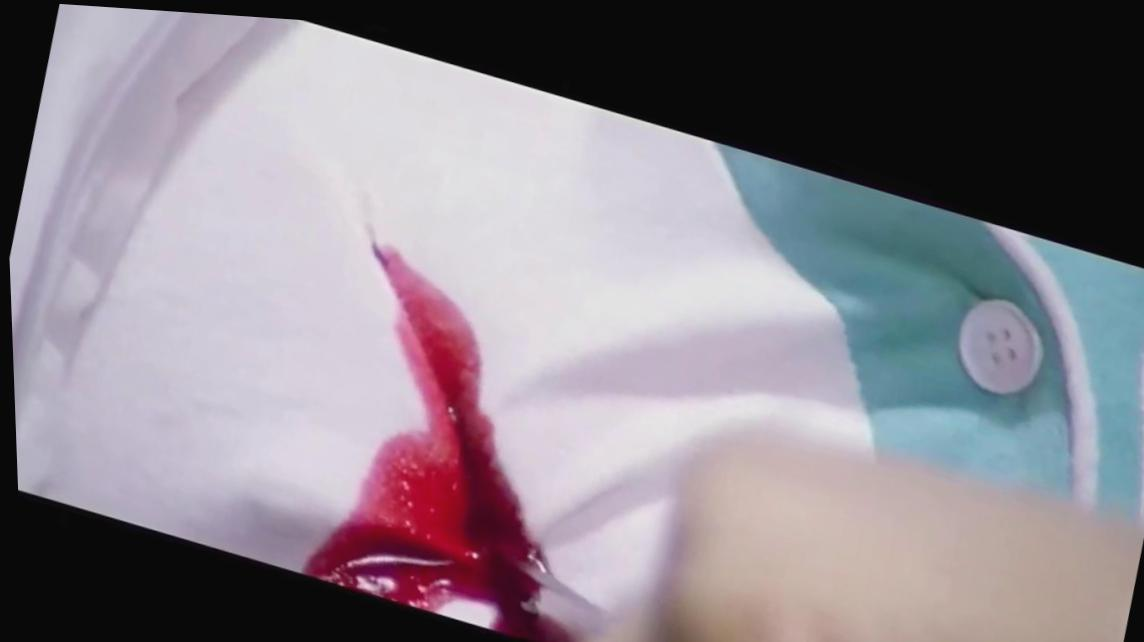Fire: (299, 236, 569, 642)
